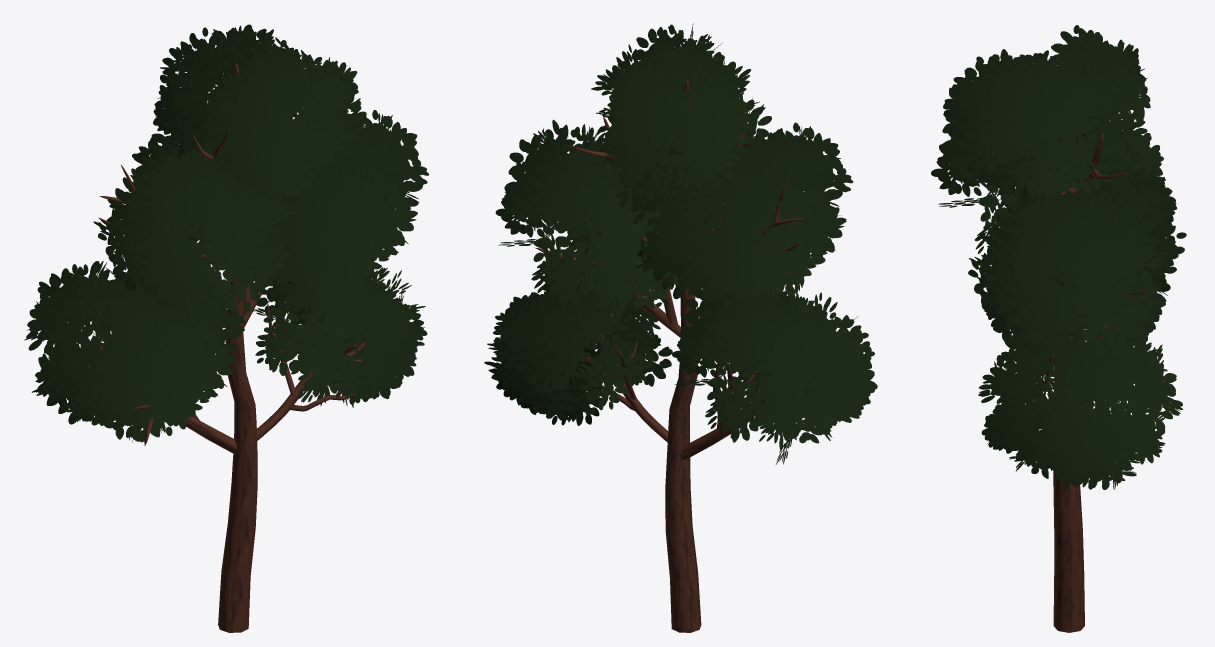
File: normal_tree_2.glb
3 renders of one model, left to right at view 1: azimuth 30°, elevation 25°; view 2: azimuth 150°, elevation 25°; view 3: azimuth 270°, elevation 25°, orthographic. The views are drawn at different scales.
Visible parts, largest first — view 1: NormalTree_22; view 2: NormalTree_22; view 3: NormalTree_22.
Boxes of the visible parts, x1,y1,x2,y2 form: NormalTree_22: (24, 24, 428, 632); NormalTree_22: (484, 23, 877, 632); NormalTree_22: (931, 25, 1186, 632).
Bounding box in the file's own units: 4.55 × 6.56 × 2.79.
Materials: 2 (2 with a texture image).
